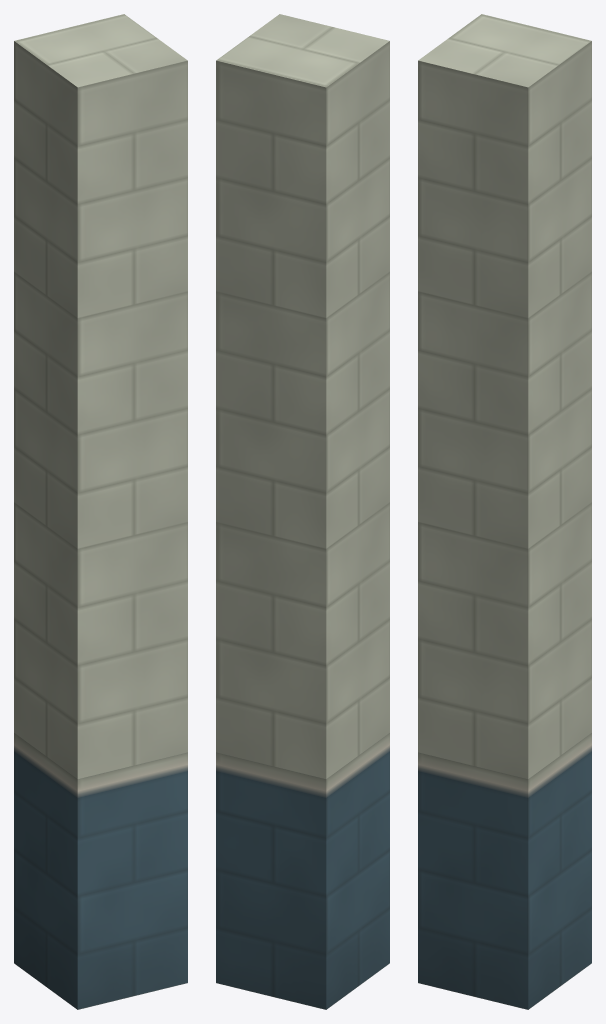
The model's file is column_prison.fbx.
3 renders of one model, left to right at view 1: azimuth 30°, elevation 25°; view 2: azimuth 150°, elevation 25°; view 3: azimuth 330°, elevation 25°, orthographic.
Parts seen in each view (by area): view 1: column_prison; view 2: column_prison; view 3: column_prison.
Part boxes in pixels (x1,y1,x2,y2): column_prison: [14, 14, 187, 1009]; column_prison: [216, 14, 389, 1009]; column_prison: [418, 14, 591, 1009].
Size of the model in its own units: 0.5 by 4 by 0.5.
Materials: 1 (1 with a texture image).
